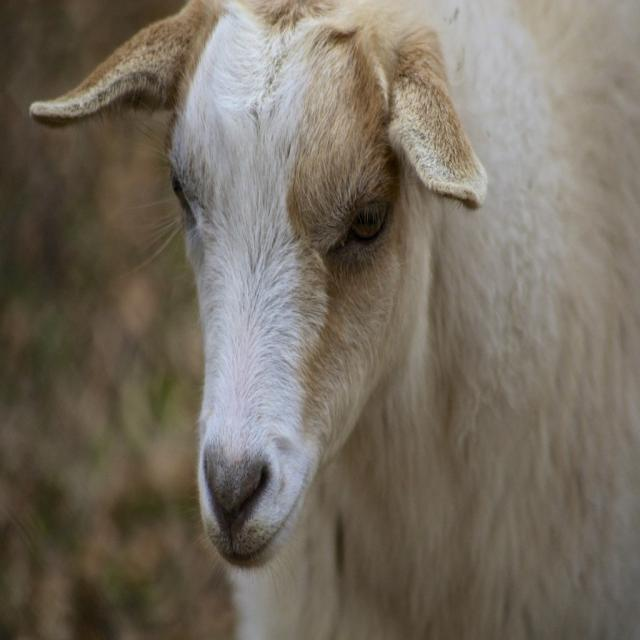Goat: (28, 0, 639, 639)
